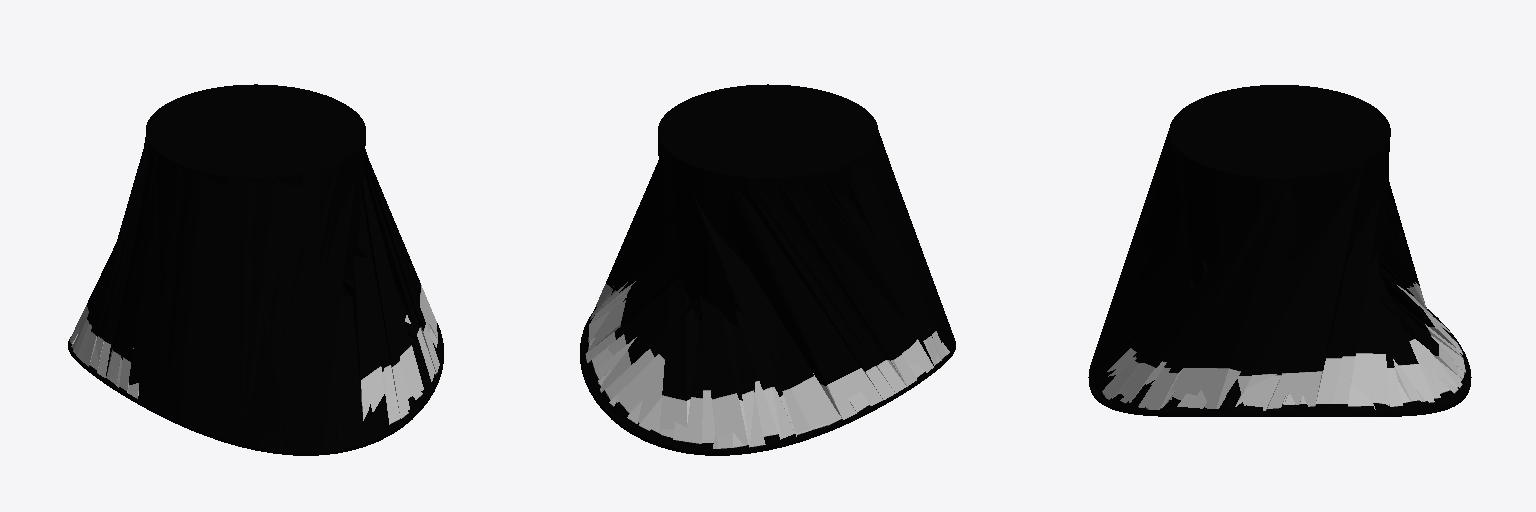
The picture shows the model from 3 angles: view 1: azimuth 30°, elevation 25°; view 2: azimuth 150°, elevation 25°; view 3: azimuth 270°, elevation 25°; orthographic projection.
Parts seen in each view (by area): view 1: tape, hat; view 2: tape, hat; view 3: tape, hat.
Boxes of the visible parts, box(x1,y1,x2,y2) form: tape: box(69, 85, 442, 452); hat: box(68, 84, 443, 455); tape: box(581, 86, 954, 455); hat: box(580, 84, 955, 455); tape: box(1089, 86, 1471, 416); hat: box(1088, 85, 1470, 416).
Bounding box in the file's own units: 32.19 × 23.94 × 33.28.
Materials: 1 (1 with a texture image).